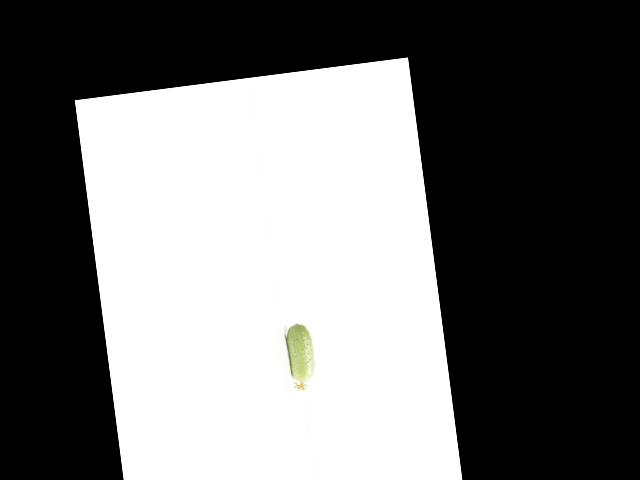cucumber: (283, 321, 317, 391)
